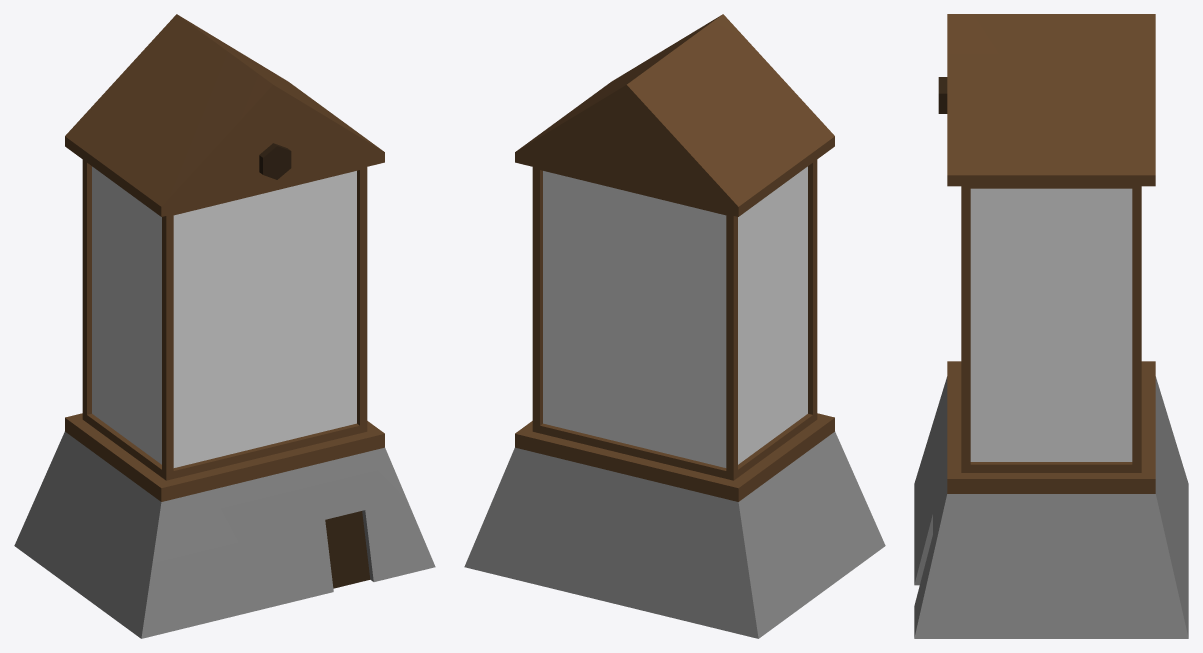
Rendered from Building_Windmill_Tower_01.fbx.
3 renders of one model, left to right at view 1: azimuth 30°, elevation 25°; view 2: azimuth 150°, elevation 25°; view 3: azimuth 270°, elevation 25°, orthographic. The views are drawn at different scales.
Parts seen in each view (by area): view 1: Building_Windmill_Tower_01; view 2: Building_Windmill_Tower_01; view 3: Building_Windmill_Tower_01.
Part boxes in pixels (x1,y1,x2,y2): Building_Windmill_Tower_01: (14,14,435,638); Building_Windmill_Tower_01: (464,14,885,638); Building_Windmill_Tower_01: (914,14,1188,638).
Size of the model in its own units: 342 by 563 by 256.
